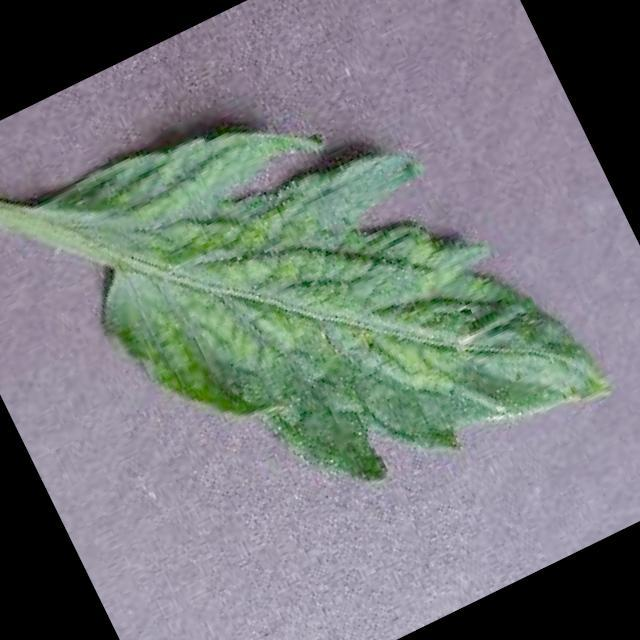Tomato mosaic virus leaf: (34, 8, 623, 592)
